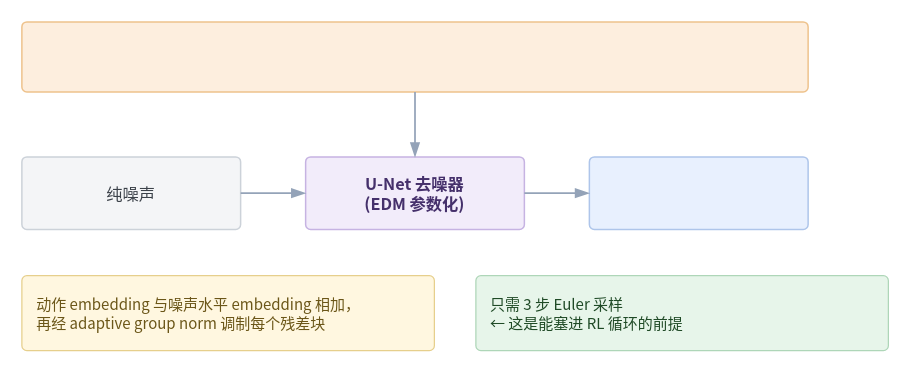
Image size: 911x374. Some labels were removed from this diagram. Each missing label, with the box of its shape:
下一帧 真·像素，无隐空间: (588, 156, 808, 230)
条件：过去 4 帧（沿通道维拼接）+ 过去 4 个动作（embedding）: (20, 20, 808, 92)
